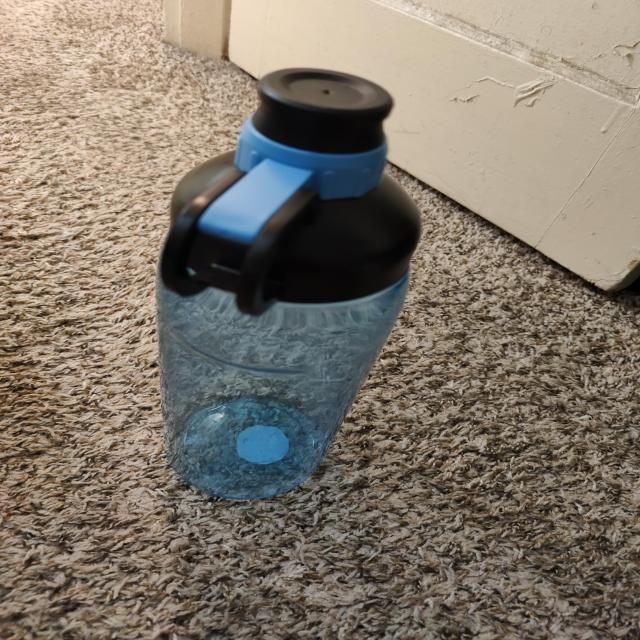bottle: (164, 63, 414, 499)
